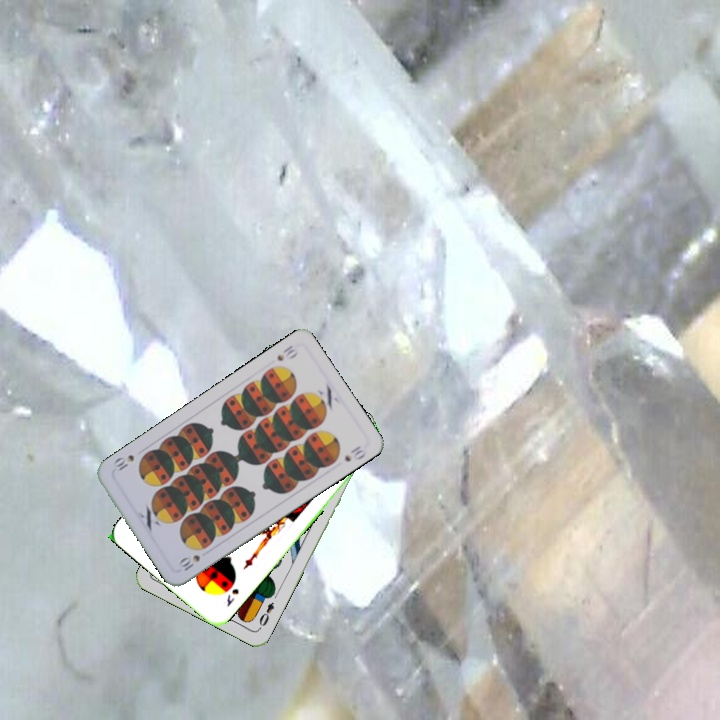EO: (255, 598, 277, 632)
S10: (176, 551, 203, 574), (273, 341, 300, 364)
SK: (222, 584, 241, 610)
